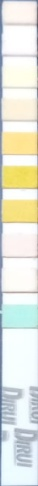color 1: (3, 5, 35, 23)
color 10: (3, 307, 38, 326)
color 2: (3, 36, 34, 53)
color 3: (3, 70, 36, 86)
color 4: (3, 100, 36, 119)
color 5: (3, 134, 36, 153)
color 6: (3, 168, 36, 186)
color 7: (3, 201, 36, 221)
color 8: (3, 236, 36, 256)
color 9: (3, 271, 36, 290)
